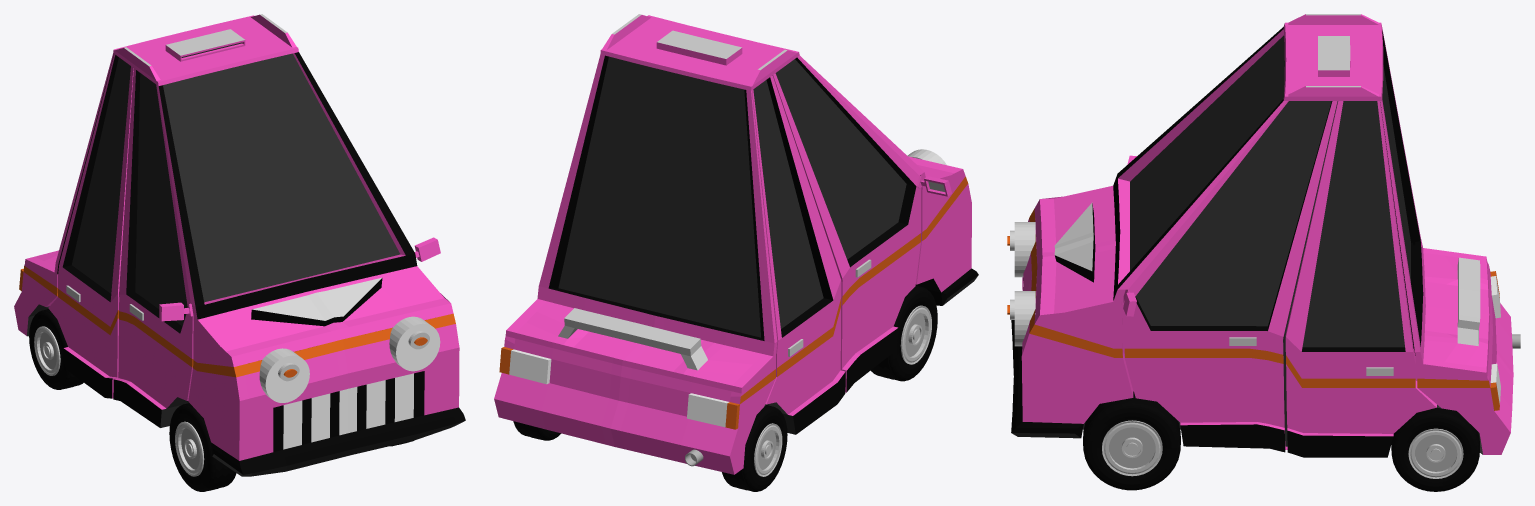
3 views of the same model, side by side, from view 1: azimuth 30°, elevation 25°; view 2: azimuth 150°, elevation 25°; view 3: azimuth 270°, elevation 25° (orthographic). The views are drawn at different scales.
Visible parts, largest first — view 1: BODY29B, WHEEL.001, WHEEL.004; view 2: BODY29B, WHEEL.001, WHEEL.004; view 3: BODY29B, WHEEL.003, WHEEL.002.
Part boxes in pixels (bbox=[...]): BODY29B: bbox=[14, 14, 465, 476]; WHEEL.001: bbox=[169, 403, 236, 491]; WHEEL.004: bbox=[29, 309, 83, 389]; BODY29B: bbox=[494, 14, 978, 474]; WHEEL.001: bbox=[871, 285, 937, 381]; WHEEL.004: bbox=[722, 405, 787, 491]; BODY29B: bbox=[1007, 14, 1513, 457]; WHEEL.003: bbox=[1083, 398, 1180, 490]; WHEEL.002: bbox=[1391, 407, 1479, 491].
Bounding box in the file's own units: 154 × 187 × 226.
